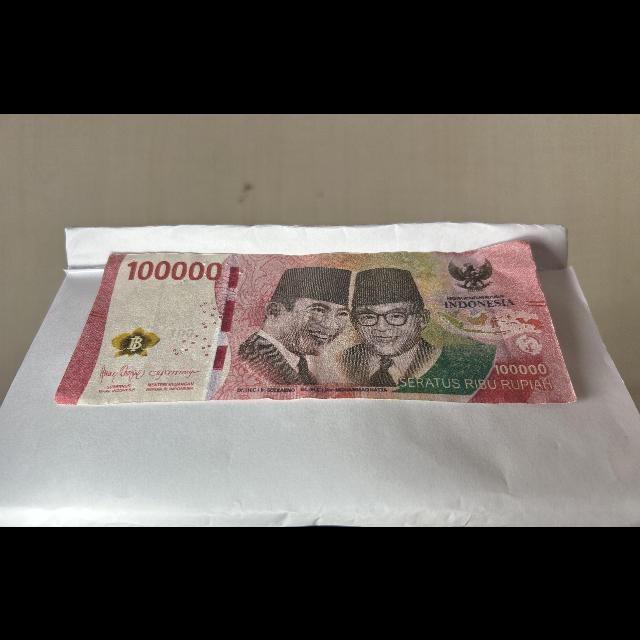Palsu-100k: (49, 236, 582, 406)
Tinta-Palsu-100k: (109, 325, 164, 359)
